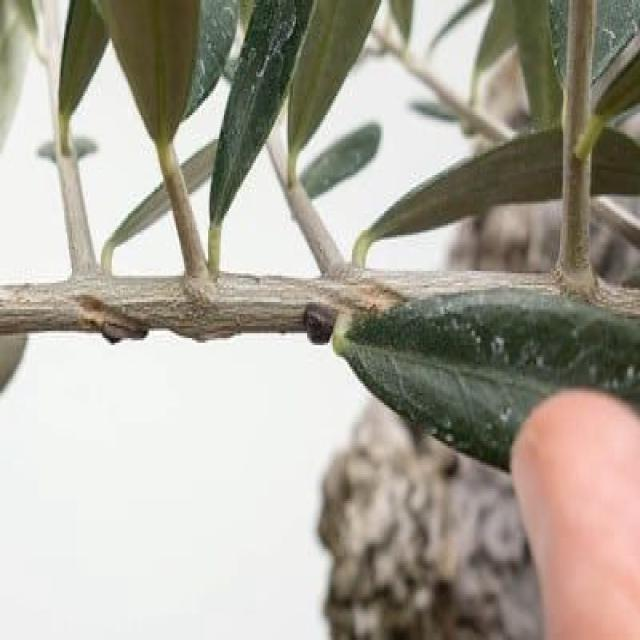BlackScale: (300, 302, 334, 343)
